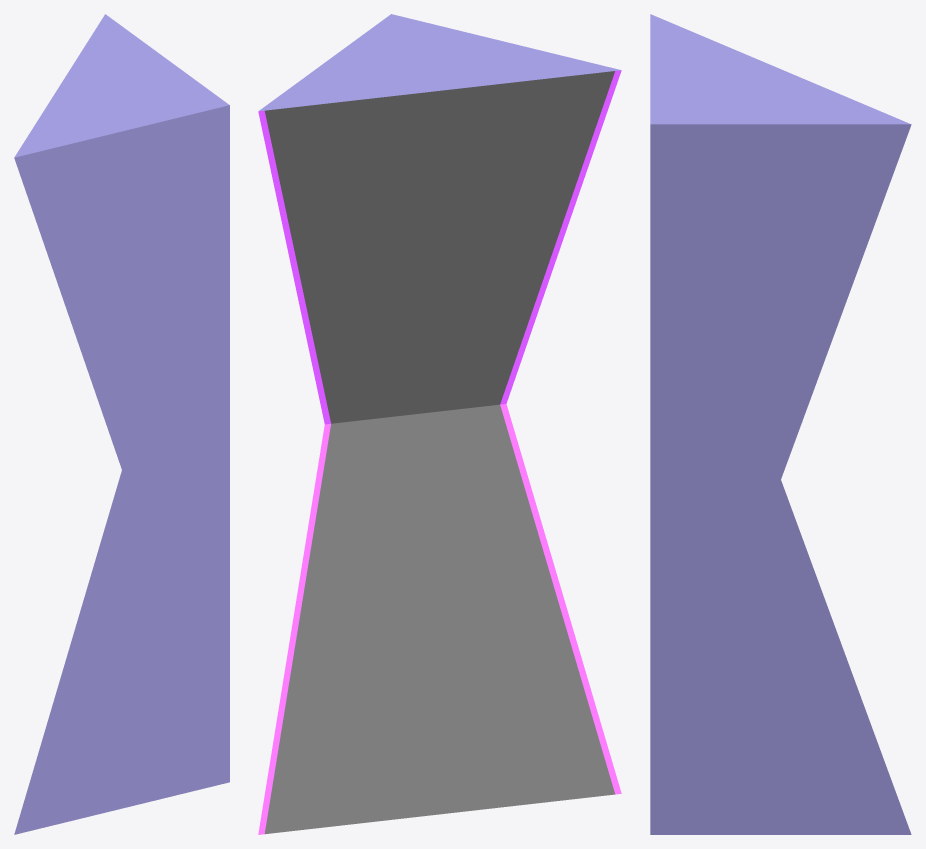
File: TunnelCornerInverted.FBX
3 views of the same model, side by side, from view 1: azimuth 30°, elevation 25°; view 2: azimuth 150°, elevation 25°; view 3: azimuth 270°, elevation 25° (orthographic). The views are drawn at different scales.
Parts seen in each view (by area): view 1: TunnelCornerInverted; view 2: TunnelCornerInverted; view 3: TunnelCornerInverted.
Part boxes in pixels (x1,y1,x2,y2): TunnelCornerInverted: (14,14,229,834); TunnelCornerInverted: (258,14,621,834); TunnelCornerInverted: (650,14,911,834).
Size of the model in its own units: 100 by 100 by 300.
